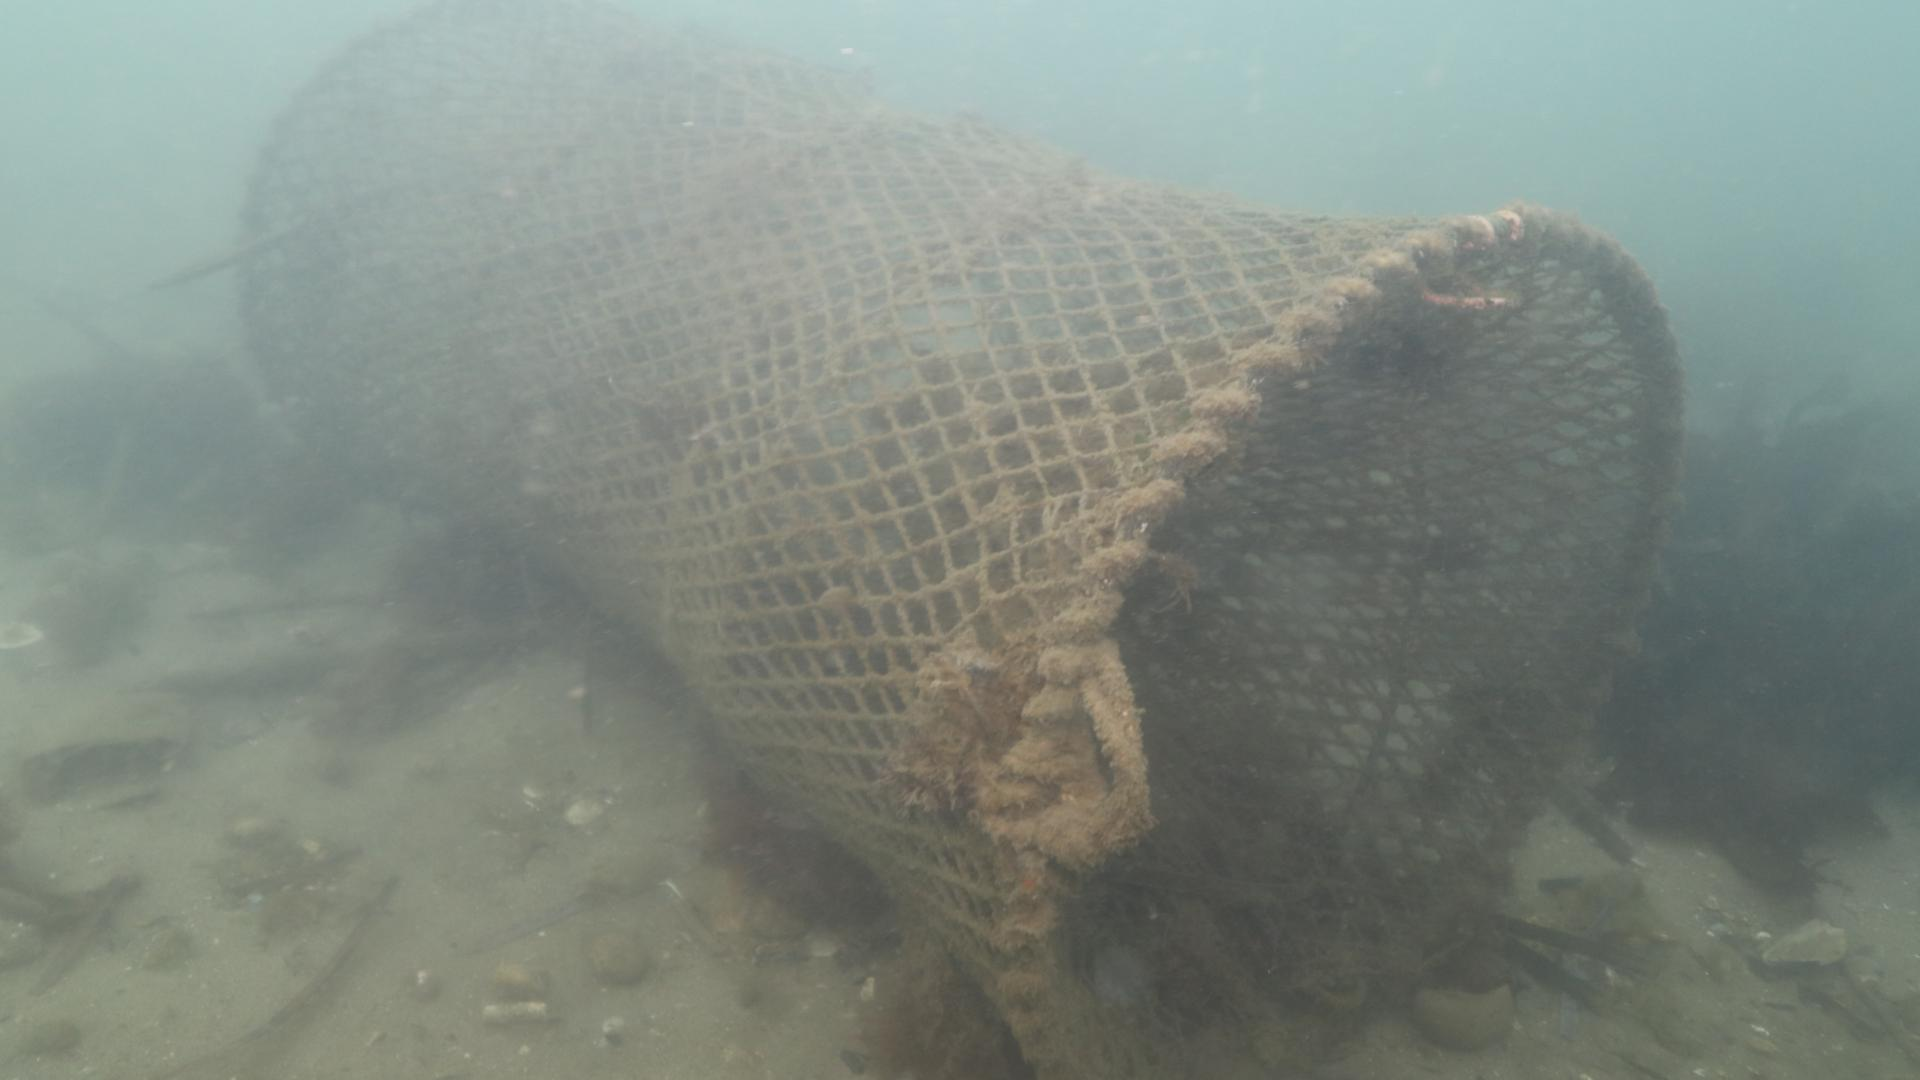spring fish trap: (244, 3, 1679, 1065)
